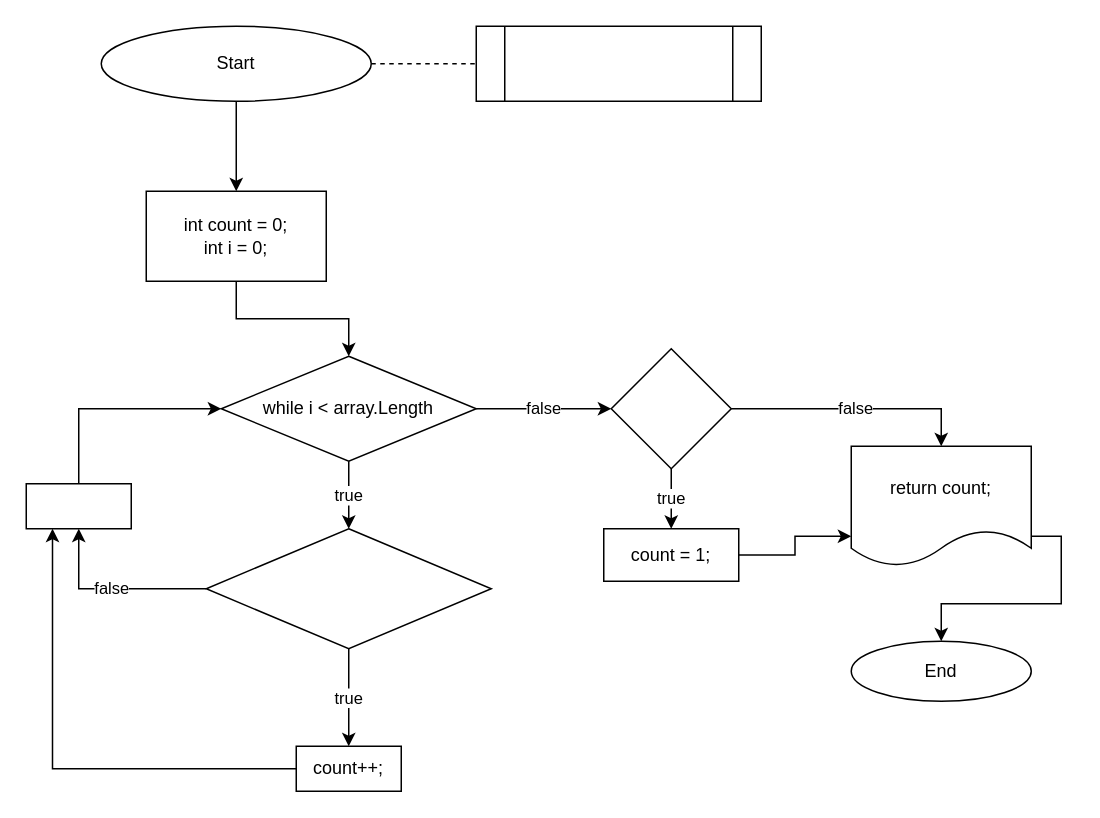
The diagram is 1100 pixels wide and 818 high, and some of its shapes have lost their labels. The shapes that lost their labels are listed below. From the top down, each one's centre as x and y in pixels, then its label:
the point at 618,63: FindSecondArrayLength (string[] array)
the point at 670,408: if count == 0
the point at 78,505: i++;
the point at 348,588: if array[i].Length <= 3
